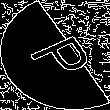P_NE: (16, 27, 94, 83)
